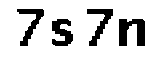7: (84, 3, 117, 52), (13, 5, 44, 51)
n: (117, 16, 148, 49)
s: (48, 15, 76, 50)
